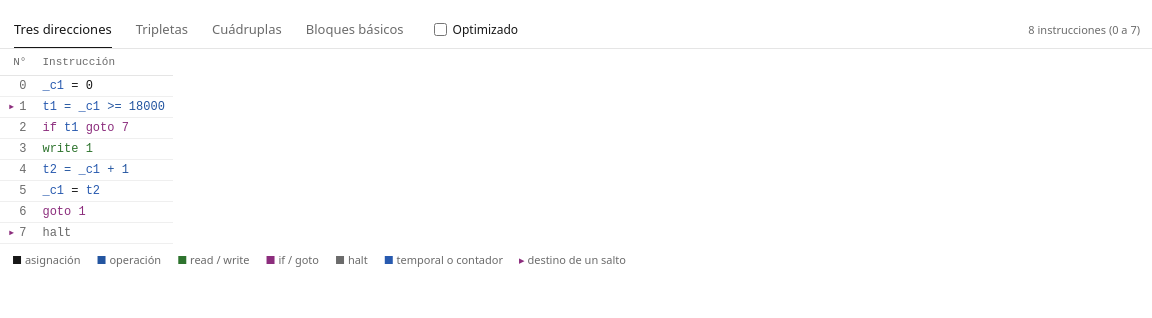
Test case: código intermedio optimizado › no compara las ejecutadas si una ejecución llegó al límite (Q2)
What coordinates should you click on to do the following:
click the checkbox labelled "Optimizado"
I would click on:
 (440, 30)
Its box is [434,23,447,36].
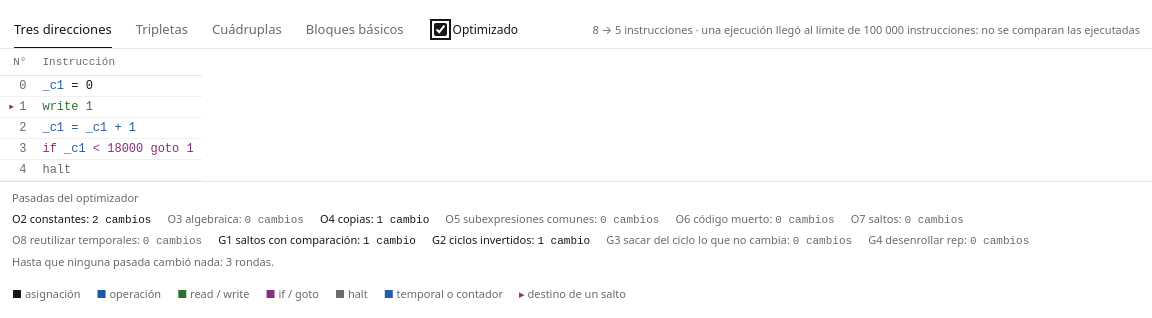
Check: the text "llegó al límite de 100 000 instrucciones" is shown, box [701,22,1140,36]
